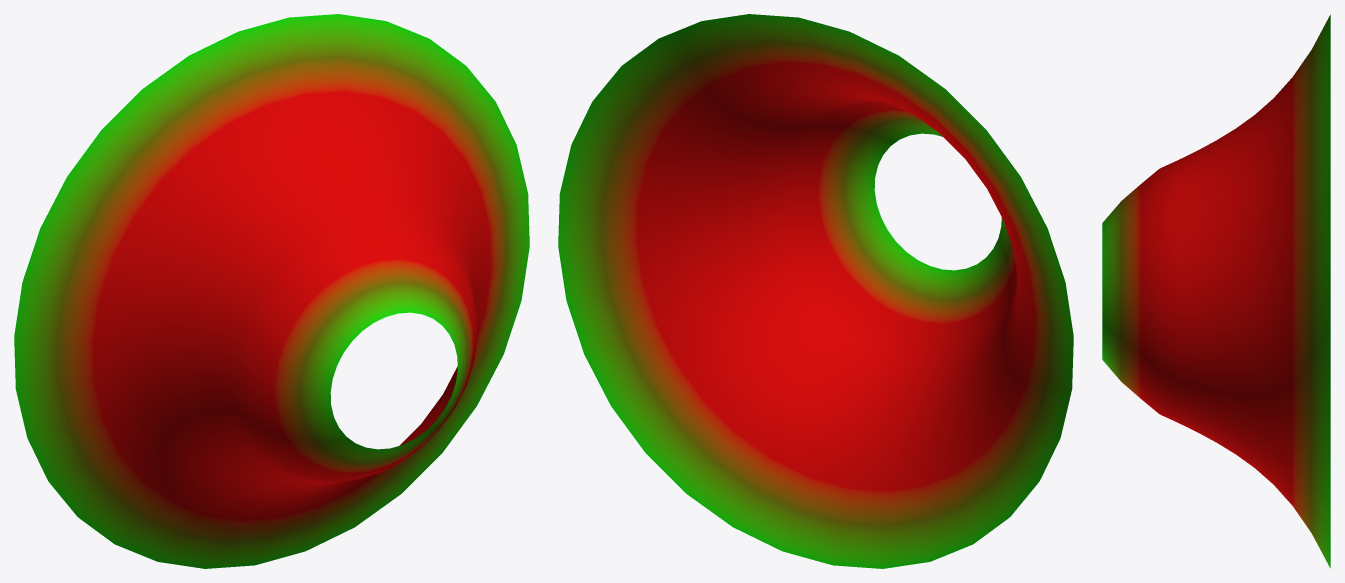
File: SM_Kaiser_Fresnelfront_02.FBX
3 views of the same model, side by side, from view 1: azimuth 30°, elevation 25°; view 2: azimuth 150°, elevation 25°; view 3: azimuth 270°, elevation 25° (orthographic). The views are drawn at different scales.
Parts seen in each view (by area): view 1: SM_Kaiser_Fresnelfront_02; view 2: SM_Kaiser_Fresnelfront_02; view 3: SM_Kaiser_Fresnelfront_02.
Part boxes in pixels (<box>): SM_Kaiser_Fresnelfront_02: <box>14,14,529,568</box>; SM_Kaiser_Fresnelfront_02: <box>558,14,1073,568</box>; SM_Kaiser_Fresnelfront_02: <box>1102,14,1330,568</box>.
Size of the model in its own units: 717 by 294 by 717.
